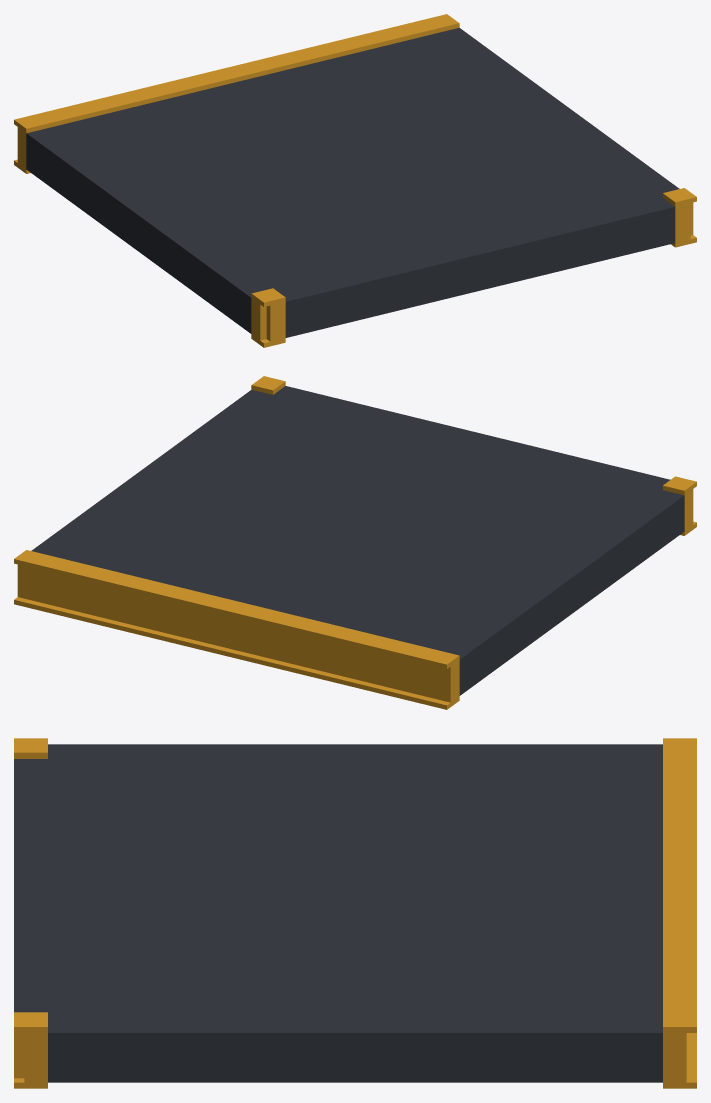
Rendered from Catwalk_2x2_Junction_T.fbx.
The picture shows the model from 3 angles, top to bottom: view 1: azimuth 30°, elevation 25°; view 2: azimuth 150°, elevation 25°; view 3: azimuth 270°, elevation 25°; orthographic projection. The views are drawn at different scales.
Parts seen in each view (by area): view 1: Catwalk_2x2_Junction_T; view 2: Catwalk_2x2_Junction_T; view 3: Catwalk_2x2_Junction_T.
Part boxes in pixels (box(x1,y1,x2,y2)): Catwalk_2x2_Junction_T: box(14, 14, 696, 347); Catwalk_2x2_Junction_T: box(14, 376, 696, 709); Catwalk_2x2_Junction_T: box(14, 738, 696, 1088).
Size of the model in its own units: 200 by 20 by 200.
